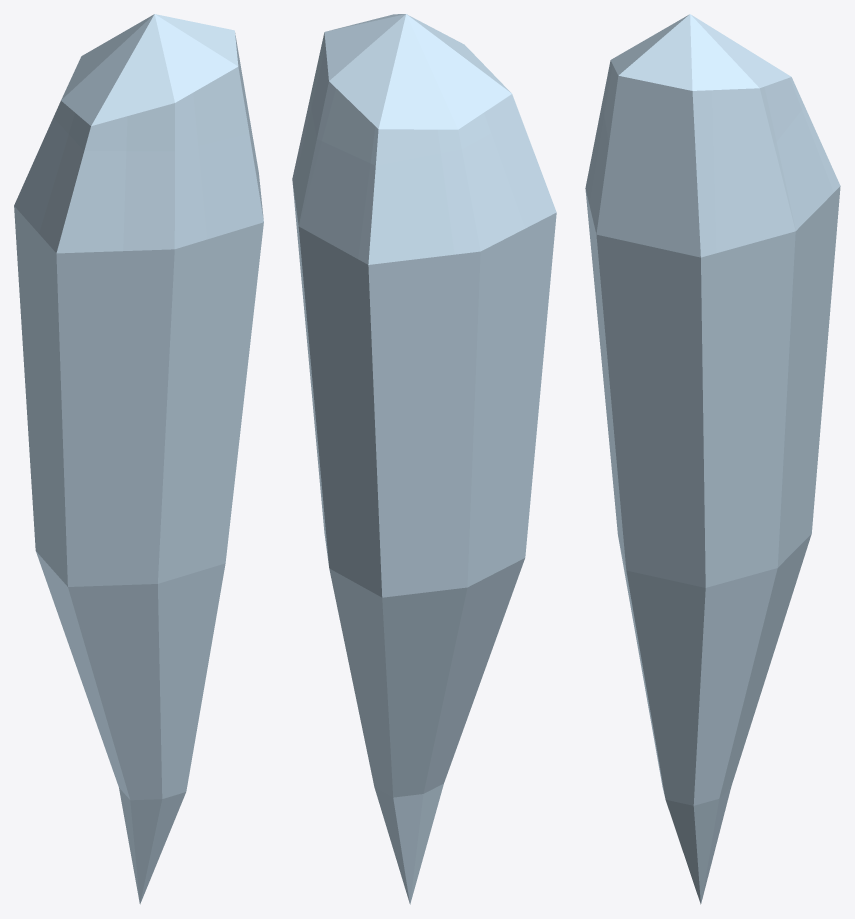
The model's file is ice_fragments.glb.
3 views of the same model, side by side, from view 1: azimuth 30°, elevation 25°; view 2: azimuth 150°, elevation 25°; view 3: azimuth 270°, elevation 25° (orthographic).
Visible parts, largest first — view 1: IceFragment_49, IceFragment_33, IceFragment_48, IceFragment_40, IceFragment_41, IceFragment_32, IceFragment_25, IceFragment_24, IceFragment_56, IceFragment_60, IceFragment_44, IceFragment_52 (+19 smaller); view 2: IceFragment_51, IceFragment_43, IceFragment_35, IceFragment_50, IceFragment_27, IceFragment_34, IceFragment_42, IceFragment_55, IceFragment_47, IceFragment_26, IceFragment_19, IceFragment_39 (+24 smaller); view 3: IceFragment_45, IceFragment_53, IceFragment_46, IceFragment_61, IceFragment_37, IceFragment_54, IceFragment_29, IceFragment_38, IceFragment_30, IceFragment_62, IceFragment_21, IceFragment_22 (+23 smaller).
Boxes of the visible parts, x1=… form: IceFragment_49: x1=39, y1=134, x2=126, y2=277; IceFragment_33: x1=46, y1=368, x2=126, y2=506; IceFragment_48: x1=123, y1=146, x2=206, y2=271; IceFragment_40: x1=123, y1=257, x2=205, y2=382; IceFragment_41: x1=40, y1=259, x2=124, y2=383; IceFragment_32: x1=125, y1=373, x2=199, y2=501; IceFragment_25: x1=52, y1=493, x2=128, y2=611; IceFragment_24: x1=126, y1=488, x2=192, y2=610; IceFragment_56: x1=126, y1=24, x2=197, y2=151; IceFragment_60: x1=140, y1=14, x2=249, y2=145; IceFragment_44: x1=199, y1=238, x2=261, y2=373; IceFragment_52: x1=198, y1=126, x2=263, y2=256; IceFragment_51: x1=358, y1=153, x2=454, y2=290; IceFragment_43: x1=359, y1=281, x2=453, y2=402; IceFragment_35: x1=363, y1=389, x2=451, y2=518; IceFragment_50: x1=441, y1=133, x2=525, y2=280; IceFragment_27: x1=367, y1=510, x2=448, y2=626; IceFragment_34: x1=449, y1=362, x2=517, y2=510; IceFragment_42: x1=451, y1=254, x2=523, y2=389; IceFragment_55: x1=299, y1=141, x2=370, y2=283; IceFragment_47: x1=301, y1=248, x2=362, y2=396; IceFragment_26: x1=443, y1=487, x2=509, y2=616; IceFragment_19: x1=374, y1=617, x2=442, y2=726; IceFragment_39: x1=311, y1=370, x2=366, y2=510; IceFragment_45: x1=625, y1=256, x2=715, y2=395; IceFragment_53: x1=624, y1=150, x2=716, y2=273; IceFragment_46: x1=714, y1=252, x2=794, y2=392; IceFragment_61: x1=633, y1=15, x2=713, y2=167; IceFragment_37: x1=634, y1=378, x2=714, y2=501; IceFragment_54: x1=714, y1=142, x2=795, y2=269; IceFragment_29: x1=641, y1=487, x2=713, y2=620; IceFragment_38: x1=713, y1=373, x2=785, y2=499; IceFragment_30: x1=711, y1=485, x2=777, y2=618; IceFragment_62: x1=702, y1=21, x2=776, y2=162; IceFragment_21: x1=651, y1=607, x2=711, y2=724; IceFragment_22: x1=708, y1=604, x2=764, y2=721.
Bounding box in the file's own units: 0.4538 × 1.65 × 0.426.
